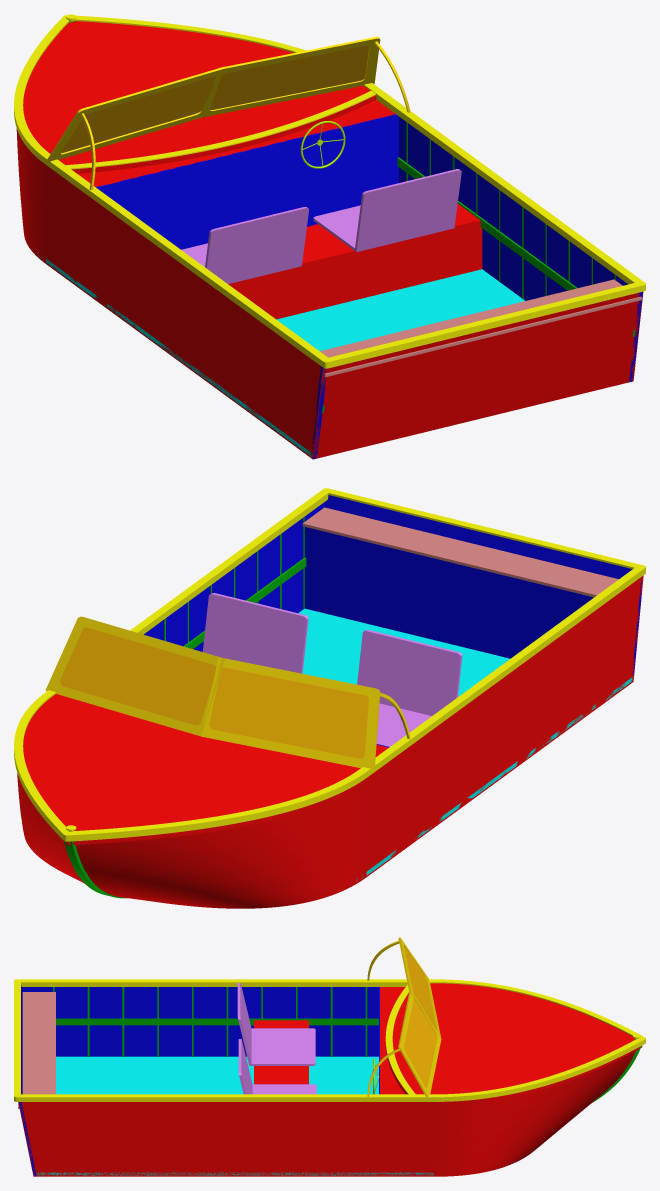
File: boat.gltf
3 renders of one model, top to bottom at view 1: azimuth 30°, elevation 25°; view 2: azimuth 150°, elevation 25°; view 3: azimuth 270°, elevation 25°, orthographic. The views are drawn at different scales.
Parts seen in each view (by area): view 1: object_19, object_58, object_12, object_56, object_45, object_1, object_14, object_57, object_49, object_2, object_4, object_54 (+8 smaller); view 2: object_56, object_58, object_16, object_45, object_51, object_54, object_17, object_4, object_57, object_14, object_2, object_65 (+12 smaller); view 3: object_59, object_15, object_56, object_57, object_45, object_17, object_64, object_60, object_5, object_43, object_61, object_63 (+13 smaller).
Boxes of the visible parts, x1=… form: object_19: x1=312, y1=292, x2=643, y2=459; object_58: x1=46, y1=165, x2=326, y2=458; object_12: x1=96, y1=114, x2=398, y2=249; object_56: x1=17, y1=21, x2=293, y2=165; object_45: x1=14, y1=15, x2=645, y2=368; object_1: x1=228, y1=204, x2=482, y2=319; object_14: x1=399, y1=116, x2=642, y2=382; object_57: x1=38, y1=252, x2=524, y2=456; object_49: x1=46, y1=85, x2=376, y2=180; object_2: x1=354, y1=169, x2=461, y2=252; object_4: x1=205, y1=207, x2=309, y2=283; object_54: x1=210, y1=45, x2=369, y2=109; object_56: x1=23, y1=696, x2=361, y2=845; object_58: x1=366, y1=576, x2=643, y2=876; object_16: x1=304, y1=527, x2=593, y2=658; object_45: x1=14, y1=488, x2=645, y2=841; object_51: x1=209, y1=668, x2=368, y2=758; object_54: x1=60, y1=627, x2=216, y2=725; object_17: x1=302, y1=507, x2=618, y2=597; object_4: x1=357, y1=629, x2=462, y2=715; object_57: x1=298, y1=608, x2=633, y2=881; object_14: x1=144, y1=502, x2=324, y2=651; object_2: x1=202, y1=593, x2=308, y2=673; object_65: x1=77, y1=793, x2=366, y2=868; object_59: x1=19, y1=1102, x2=433, y2=1176; object_15: x1=22, y1=987, x2=378, y2=1056; object_56: x1=434, y1=983, x2=642, y2=1105; object_57: x1=36, y1=1056, x2=433, y2=1175; object_45: x1=14, y1=979, x2=645, y2=1101; object_17: x1=18, y1=992, x2=55, y2=1108; object_64: x1=434, y1=1057, x2=632, y2=1129; object_60: x1=434, y1=1072, x2=623, y2=1145; object_5: x1=249, y1=1028, x2=315, y2=1065; object_43: x1=56, y1=1018, x2=378, y2=1025; object_61: x1=434, y1=1089, x2=607, y2=1160; object_63: x1=434, y1=1051, x2=635, y2=1113.
Bounding box in the file's own units: 8.2 × 4.03 × 18.2.
